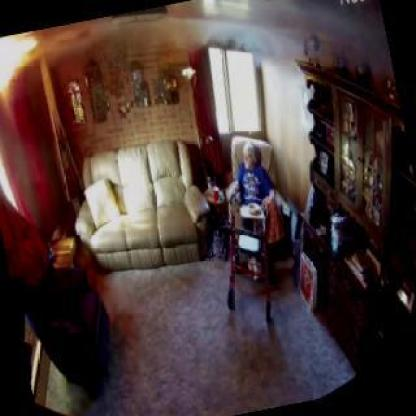Fire: (0, 28, 51, 98)
